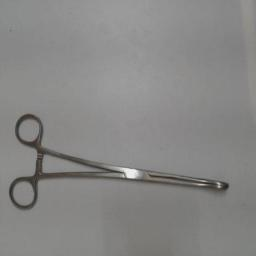Sponge Forceps: (6, 108, 236, 216)
